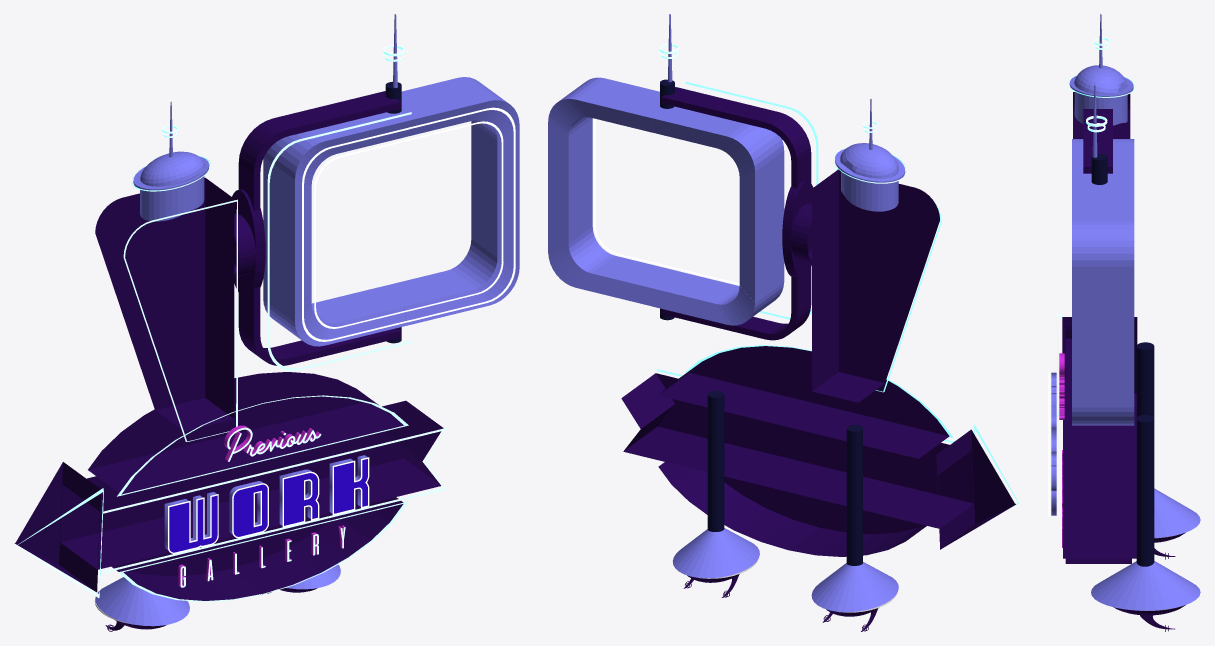
The model's file is worksSign.glb.
The picture shows the model from 3 angles, left to right: view 1: azimuth 30°, elevation 25°; view 2: azimuth 150°, elevation 25°; view 3: azimuth 270°, elevation 25°; orthographic projection. The views are drawn at different scales.
Visible parts, largest first — view 1: screen.001, verticalStand, arrow, semi-circle-previous, Circle.084, screenBracet, WORKBLue, foot.001, screenHolder, neon, WorkOutline.001, WorkText.001 (+10 smaller); view 2: screen.001, arrow, verticalStand, semi-circle-previous, Circle.084, screenBracet, foot.002, foot.001, screenHolder, BackPoleR, backPoleL, Sphere.032 (+1 smaller); view 3: screen.001, arrow, semi-circle-previous, foot.002, BackPoleR, foot.001, screenBracet, backPoleL, Sphere.032, Cylinder.032, WorkText.001, verticalStand (+7 smaller).
Boxes of the visible parts, x1=… form: screen.001: x1=263, y1=77, x2=519, y2=346; verticalStand: x1=95, y1=177, x2=234, y2=431; arrow: x1=14, y1=400, x2=443, y2=592; semi-circle-previous: x1=88, y1=372, x2=403, y2=494; Circle.084: x1=111, y1=497, x2=403, y2=600; screenBracet: x1=238, y1=91, x2=401, y2=365; WORKBLue: x1=169, y1=459, x2=367, y2=552; foot.001: x1=95, y1=577, x2=189, y2=626; screenHolder: x1=232, y1=189, x2=265, y2=296; neon: x1=16, y1=427, x2=447, y2=597; WorkOutline.001: x1=168, y1=457, x2=369, y2=553; WorkText.001: x1=164, y1=455, x2=367, y2=550; screen.001: x1=548, y1=77, x2=784, y2=325; arrow: x1=621, y1=373, x2=1015, y2=549; verticalStand: x1=812, y1=169, x2=939, y2=402; semi-circle-previous: x1=658, y1=346, x2=949, y2=458; Circle.084: x1=658, y1=462, x2=926, y2=556; screenBracet: x1=661, y1=87, x2=811, y2=340; foot.002: x1=672, y1=528, x2=759, y2=578; foot.001: x1=811, y1=562, x2=898, y2=612; screenHolder: x1=782, y1=180, x2=813, y2=279; BackPoleR: x1=707, y1=391, x2=724, y2=531; backPoleL: x1=846, y1=425, x2=862, y2=565; Sphere.032: x1=840, y1=143, x2=898, y2=178; screen.001: x1=1072, y1=139, x2=1134, y2=425; arrow: x1=1062, y1=317, x2=1137, y2=558; semi-circle-previous: x1=1065, y1=325, x2=1131, y2=474; foot.002: x1=1091, y1=561, x2=1200, y2=610; BackPoleR: x1=1136, y1=414, x2=1154, y2=566; foot.001: x1=1154, y1=488, x2=1200, y2=537; screenBracet: x1=1083, y1=109, x2=1112, y2=173; backPoleL: x1=1136, y1=342, x2=1154, y2=417; Sphere.032: x1=1074, y1=65, x2=1127, y2=94; Cylinder.032: x1=1074, y1=84, x2=1127, y2=125; WorkText.001: x1=1051, y1=372, x2=1056, y2=515; verticalStand: x1=1073, y1=92, x2=1130, y2=138.
Size of the model in its own units: 17.92 by 20.29 by 4.89.
